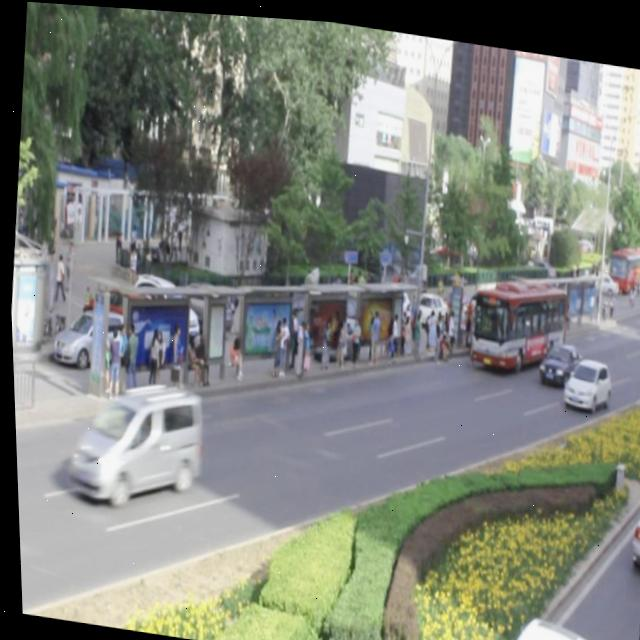car: (557, 346, 609, 403), (532, 330, 579, 381)
truck: (63, 369, 201, 514)
van: (463, 262, 566, 374)
